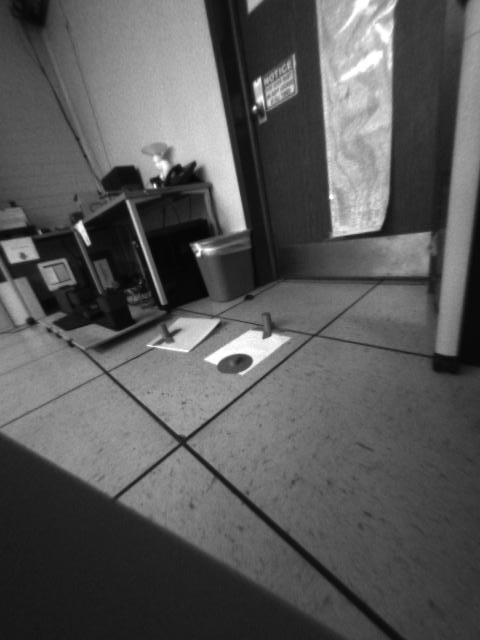X: (147, 320, 184, 347), (250, 312, 285, 339)
